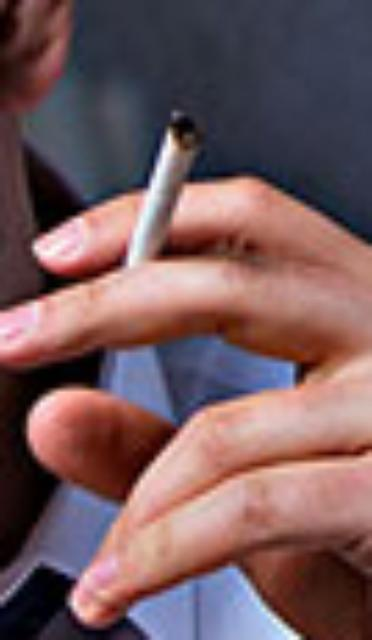Smoking: (131, 106, 203, 266)
